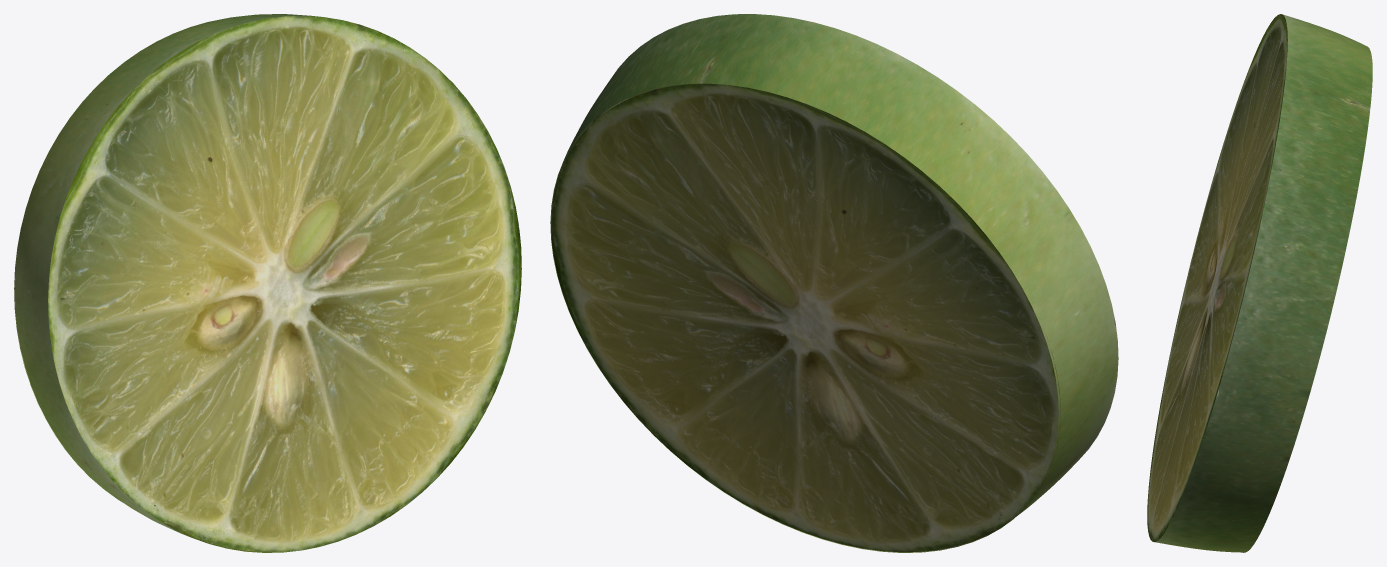
File: Limon.dae
3 views of the same model, side by side, from view 1: azimuth 30°, elevation 25°; view 2: azimuth 150°, elevation 25°; view 3: azimuth 270°, elevation 25° (orthographic). The views are drawn at different scales.
Visible parts, largest first — view 1: Pulpa, Cascara; view 2: Pulpa1, Cascara; view 3: Cascara, Pulpa.
Boxes of the visible parts, bbox=[...] form: Pulpa: bbox=[48, 16, 521, 552]; Cascara: bbox=[14, 14, 320, 536]; Pulpa1: bbox=[551, 84, 1060, 552]; Cascara: bbox=[550, 14, 1118, 552]; Cascara: bbox=[1155, 14, 1372, 552]; Pulpa: bbox=[1147, 14, 1287, 541].
Size of the model in its own units: 0.2989 by 0.296 by 0.1241.
2 materials, 2 textured.
